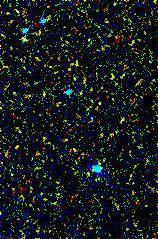star: (90, 86, 120, 116)
